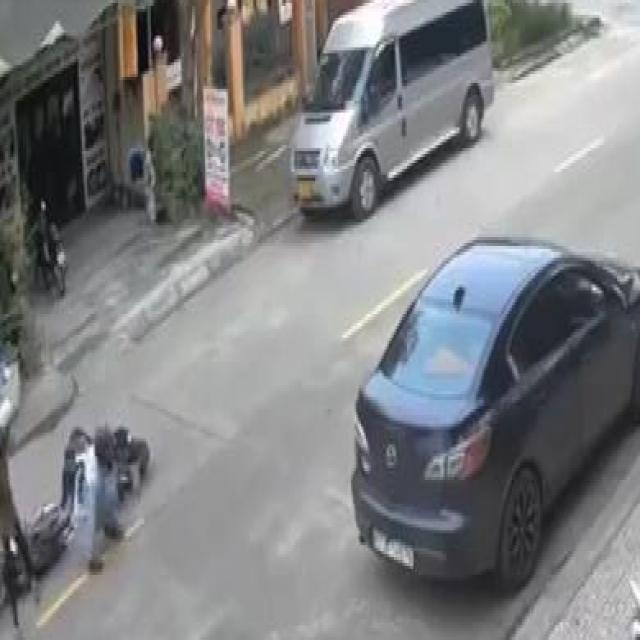accident: (0, 370, 154, 639)
